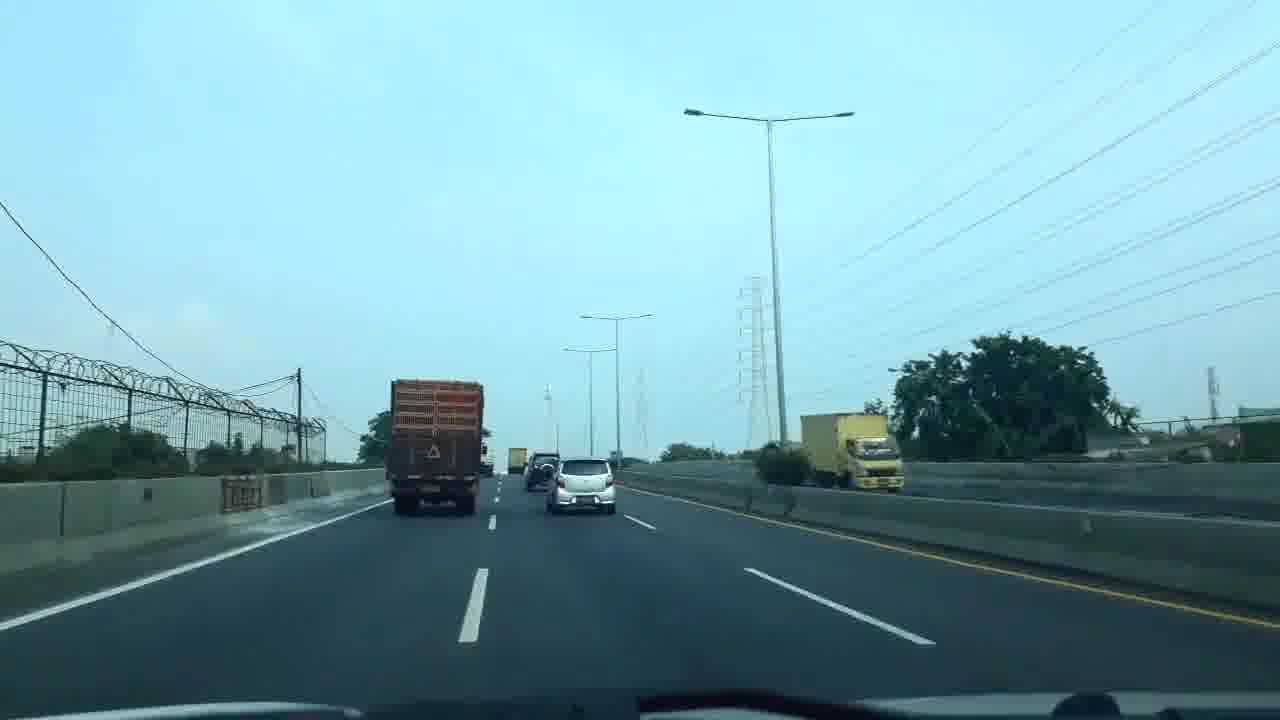plate_positive: (419, 485, 441, 494), (576, 496, 595, 503)
